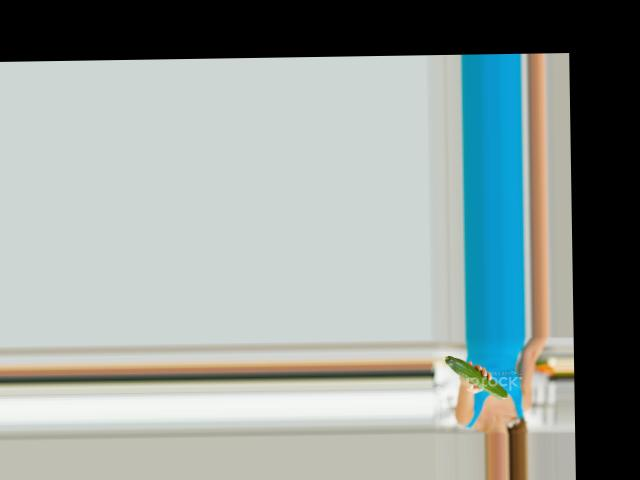cucumber: (445, 354, 508, 399)
